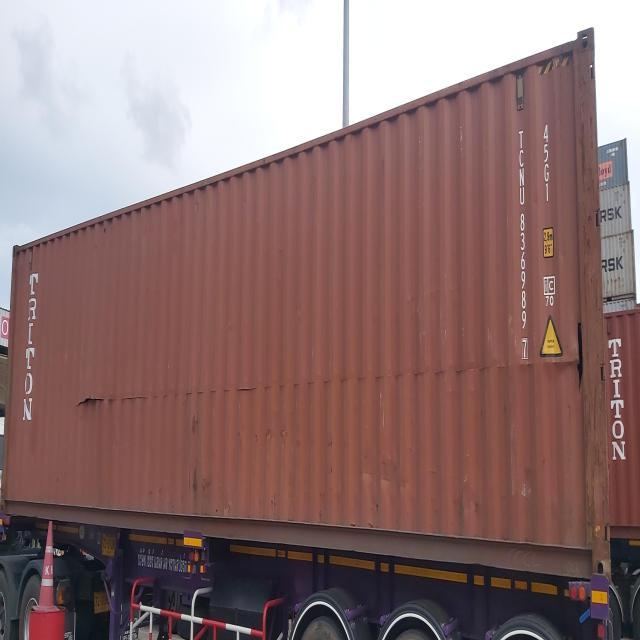hole: (78, 397, 104, 408)
